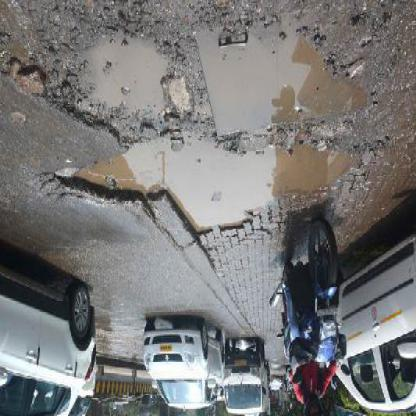pothole: (49, 144, 356, 246), (193, 26, 371, 145), (63, 36, 178, 145)
